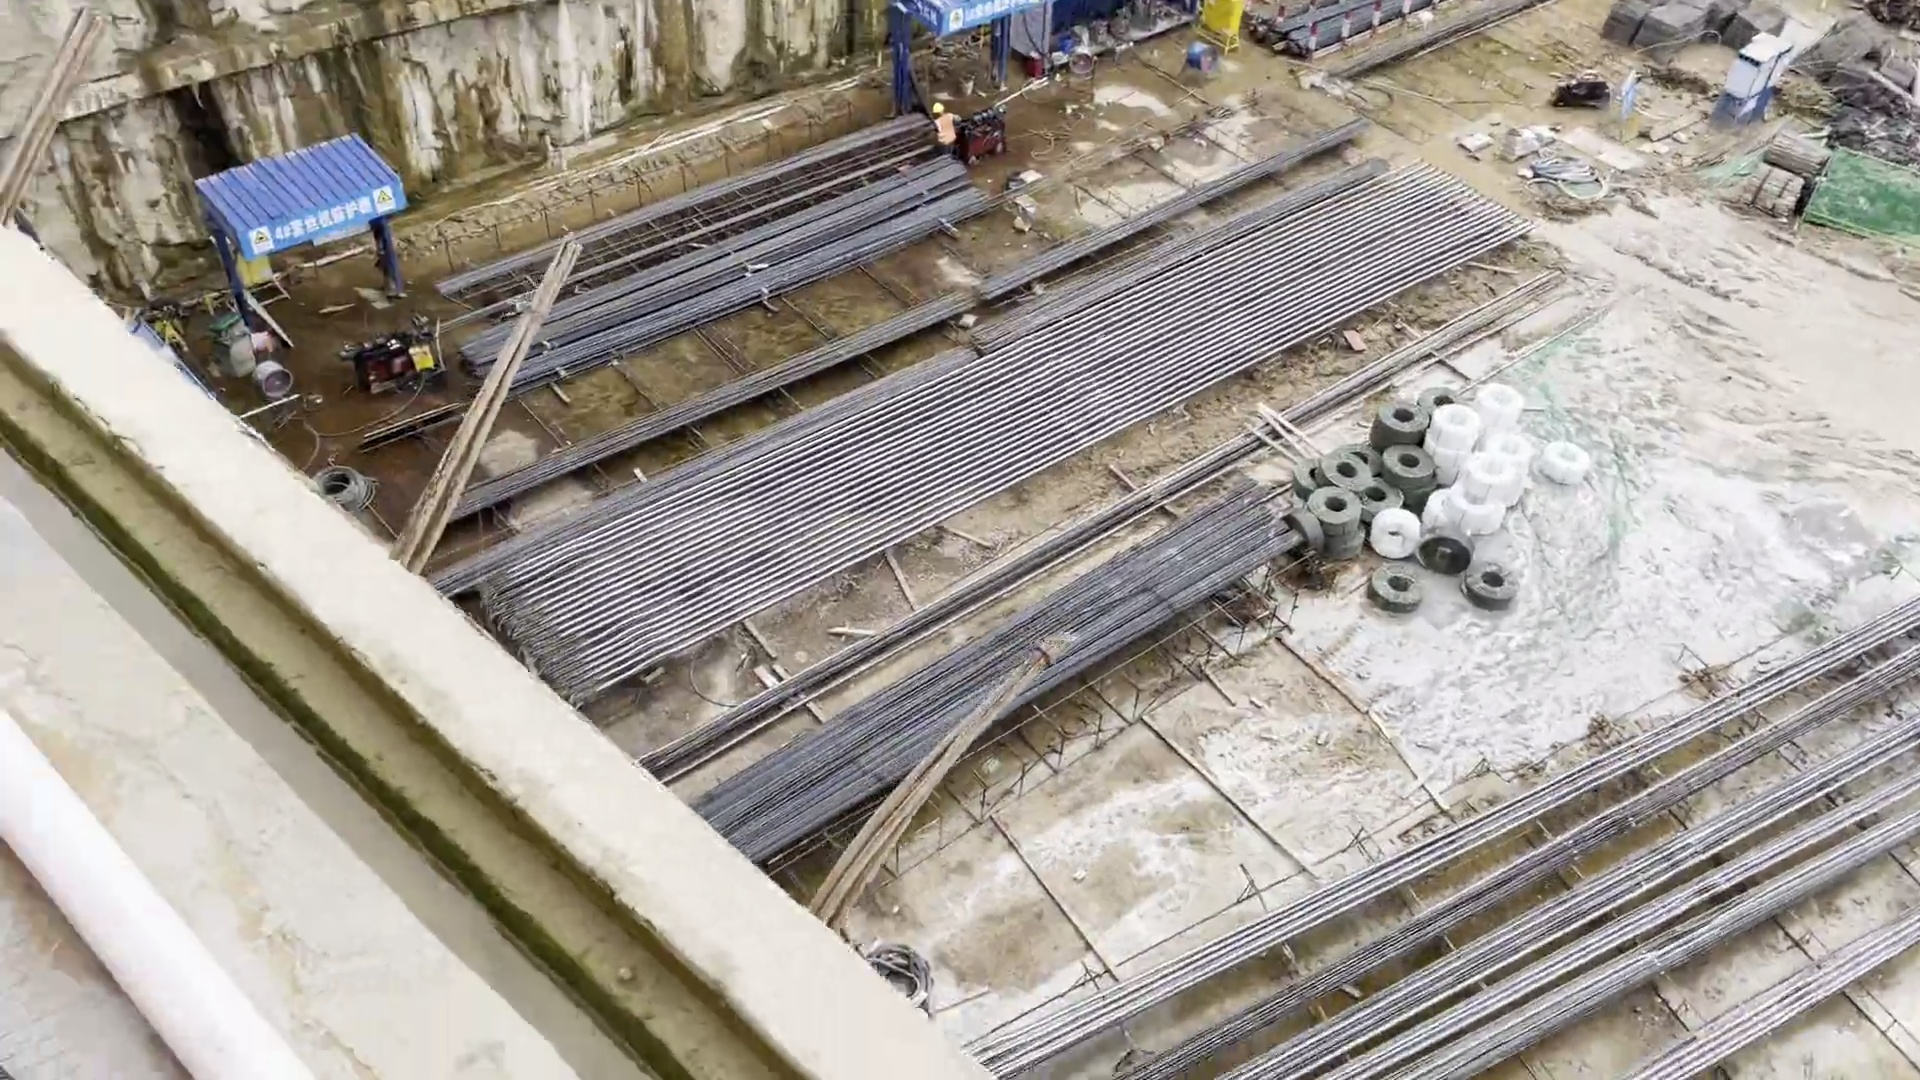cutter: (1054, 6, 1185, 57)
ebox: (1199, 4, 1249, 52)
helmet: (931, 104, 944, 113)
person: (927, 103, 964, 158)
rebar: (961, 589, 1920, 1080), (650, 481, 1313, 857), (431, 97, 983, 397)
slogan: (247, 176, 403, 263), (942, 1, 1043, 36)
vest: (932, 113, 956, 143)
